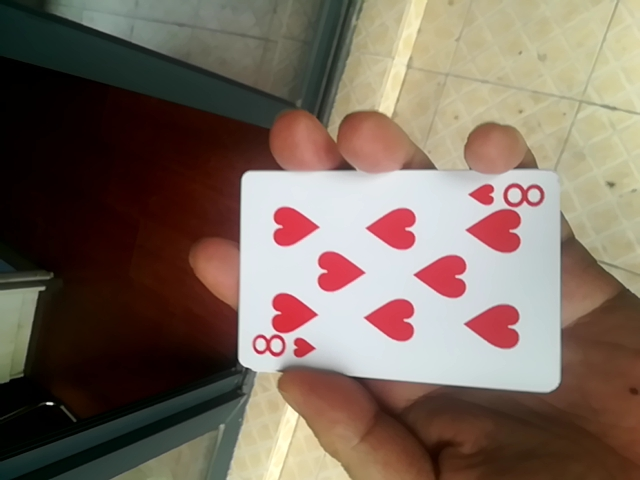hx 8: (236, 159, 562, 386)
